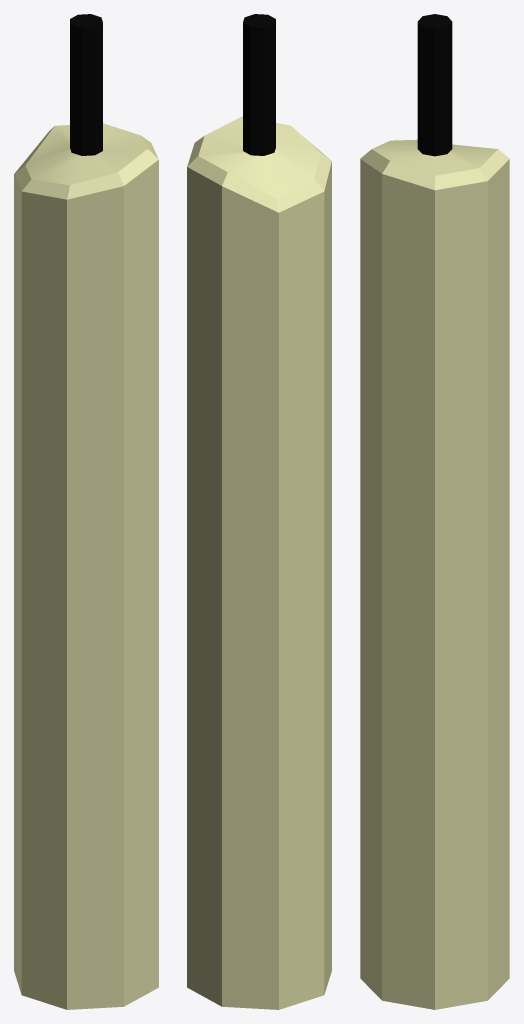
The model's file is Candle.fbx.
3 views of the same model, side by side, from view 1: azimuth 30°, elevation 25°; view 2: azimuth 150°, elevation 25°; view 3: azimuth 270°, elevation 25° (orthographic).
Visible parts, largest first — view 1: pCylinder1; view 2: pCylinder1; view 3: pCylinder1.
Part boxes in pixels (x1,y1,x2,y2): pCylinder1: (14,14,158,1009); pCylinder1: (187,14,331,1009); pCylinder1: (360,14,509,1009).
Bounding box in the file's own units: 0.2 × 1.41 × 0.2.
